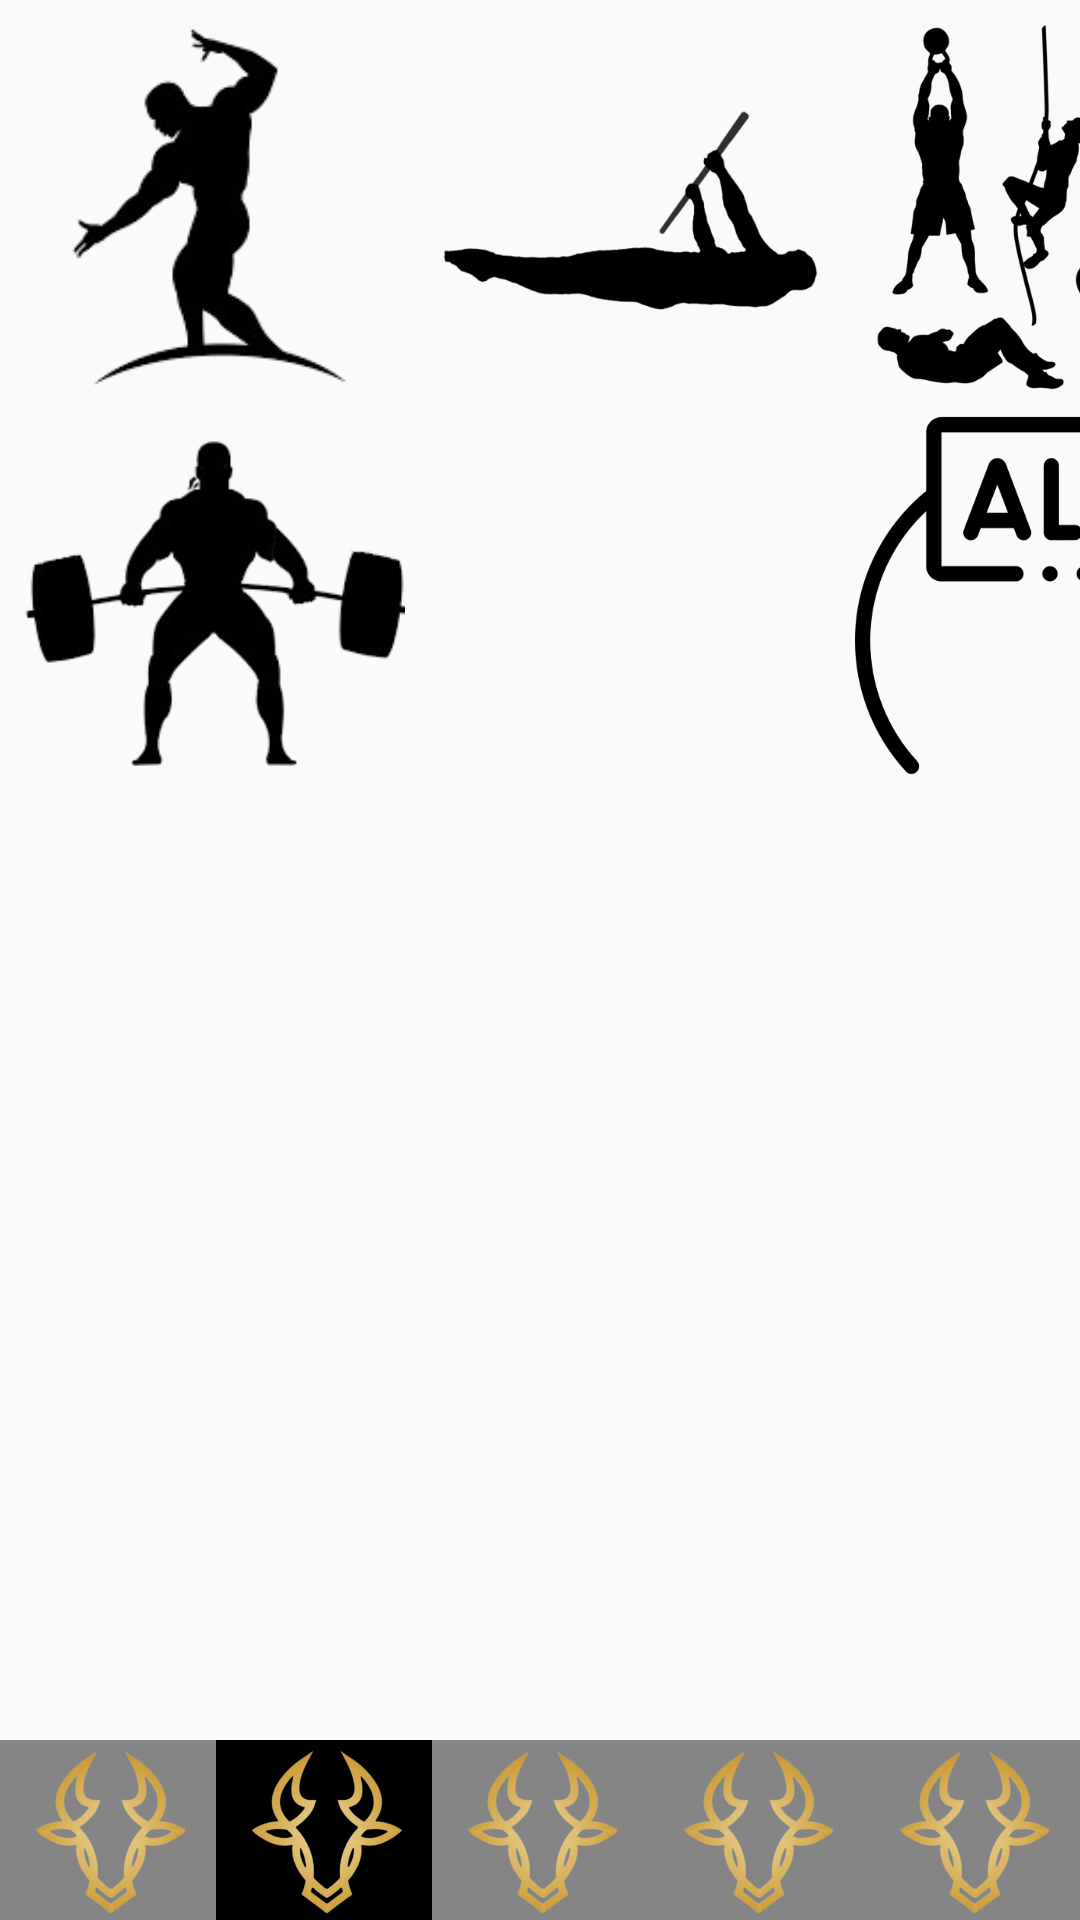

Screen size 1080px x 1920px. Icon name, then its box in pixels as BBox(x1, y1, x2, y2):
bodybuilding: BBox(72, 29, 346, 384)
